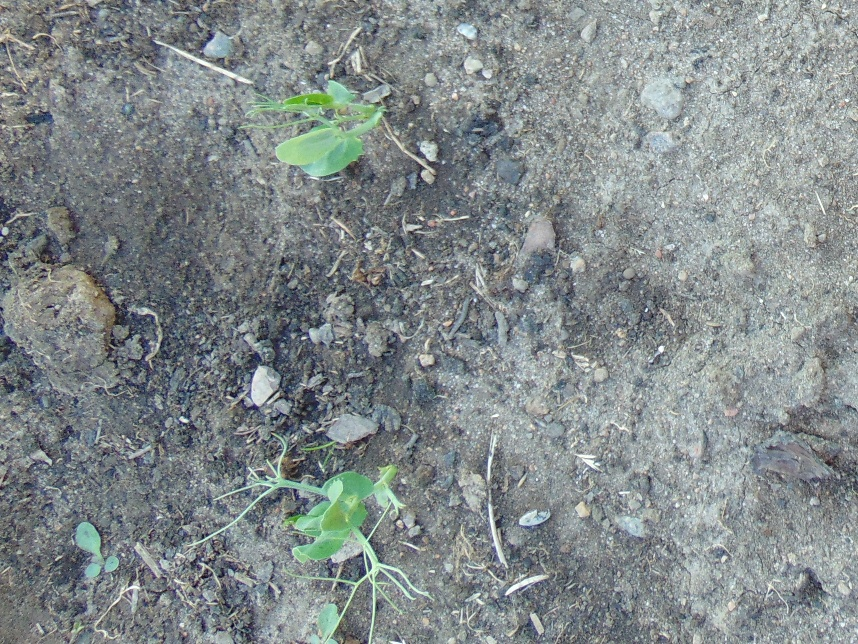crop: (237, 442, 408, 601), (250, 78, 392, 172)
weed: (74, 517, 120, 580), (301, 602, 339, 644)
